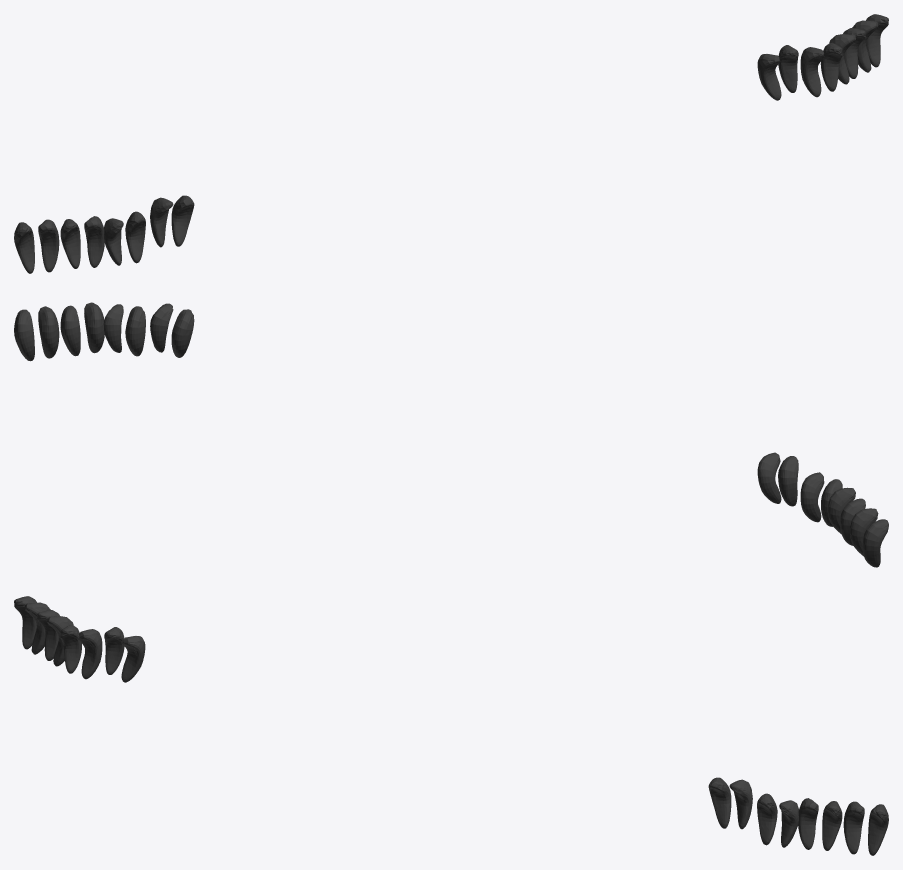
Rendered from HL_sesamoids_proximal_1.glb.
3 views of the same model, one above another, from view 1: azimuth 30°, elevation 25°; view 2: azimuth 150°, elevation 25°; view 3: azimuth 330°, elevation 25° (orthographic).
Parts seen in each view (by area): view 1: HL_sesamoids_proximal_1; view 2: HL_sesamoids_proximal_1; view 3: HL_sesamoids_proximal_1.
Boxes of the visible parts, x1=… form: HL_sesamoids_proximal_1: x1=14, y1=14, x2=888, y2=273; HL_sesamoids_proximal_1: x1=14, y1=302, x2=888, y2=567; HL_sesamoids_proximal_1: x1=14, y1=596, x2=888, y2=855.
Size of the model in its own units: 0.00603 by 0.000426 by 0.000485.
1 material, 1 textured.
